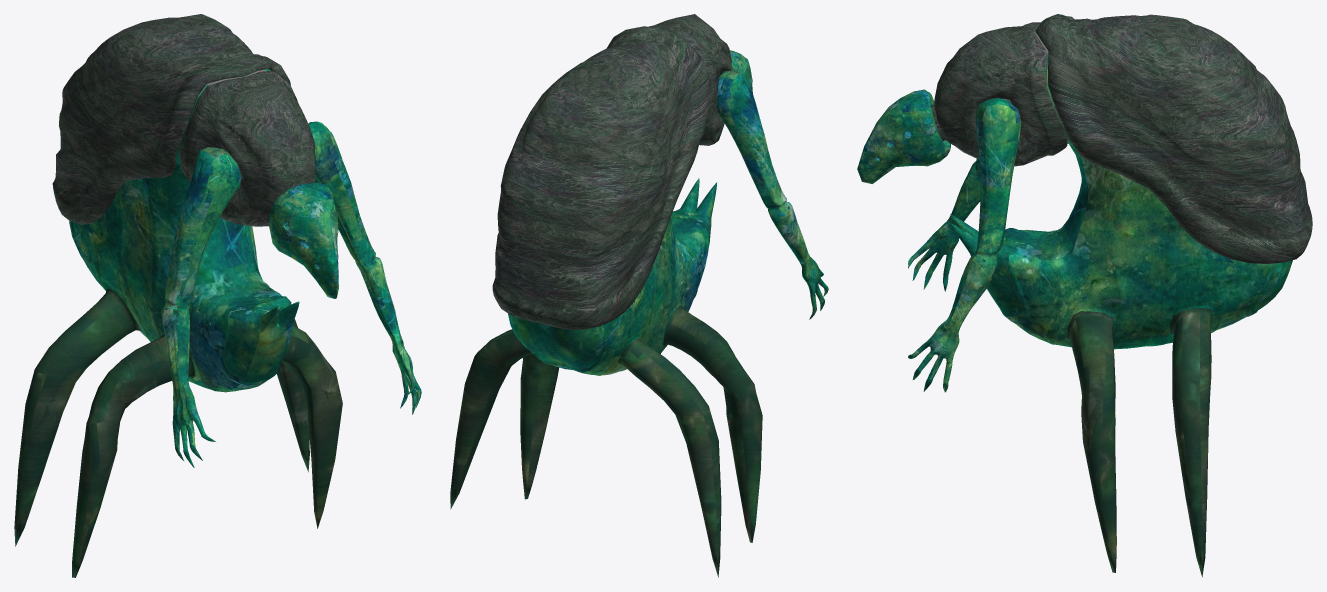
The model's file is Andar.0009.obj.
3 renders of one model, left to right at view 1: azimuth 30°, elevation 25°; view 2: azimuth 150°, elevation 25°; view 3: azimuth 270°, elevation 25°, orthographic. The views are drawn at different scales.
Visible parts, largest first — view 1: pCube14; view 2: pCube14; view 3: pCube14.
Boxes of the visible parts, bbox=[...] form: pCube14: bbox=[14, 14, 421, 577]; pCube14: bbox=[450, 14, 828, 577]; pCube14: bbox=[857, 14, 1312, 577].
Size of the model in its own units: 2.33 by 3.92 by 3.26.
Materials: 5 (4 with a texture image).
